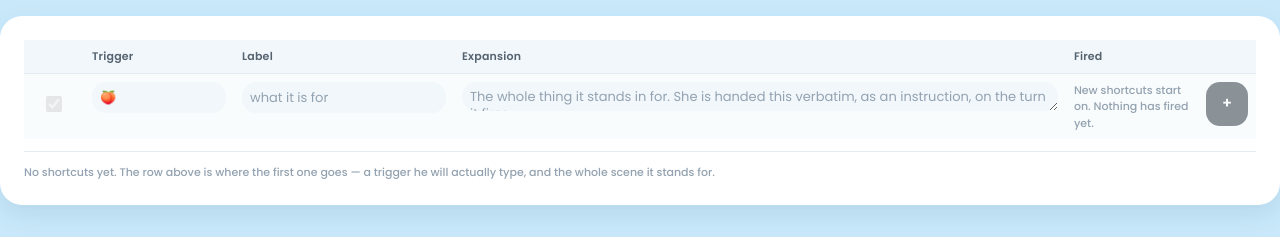
Test case: ShortcutTable — the add row › keeps the fields and shows the error when the add is refused
In the field named "The trigger to add": [159, 97] box [92,82,226,113], type "gym"
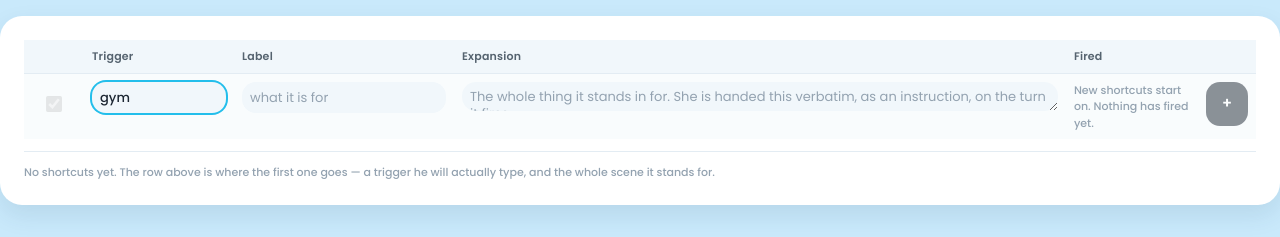
In the field named "What the new shortcut is for": [344, 97] box [242,82,446,113], type "Gym day"
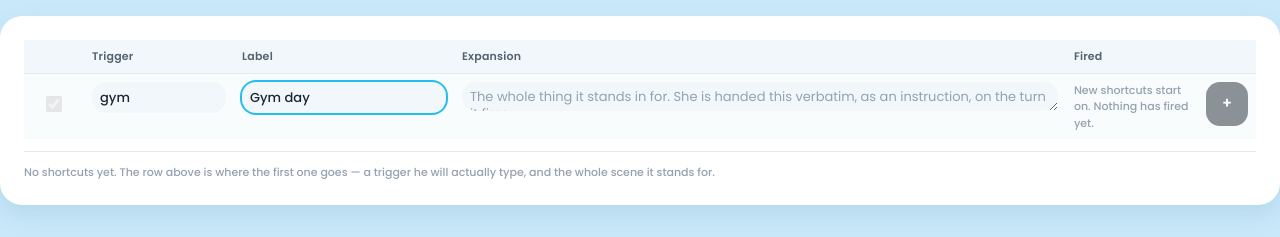
In the text box named "The context the new shortcut stands for": [760, 96] box [462,82,1058,111], type "He is at the gym."
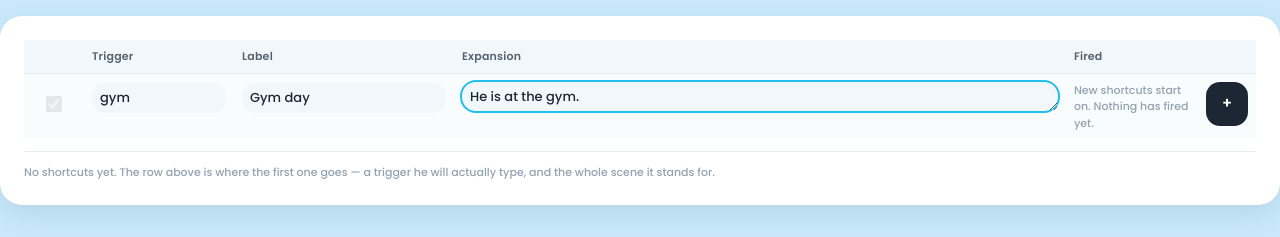
Click the button named "Add this shortcut": [1227, 104] box [1206,82,1248,126]
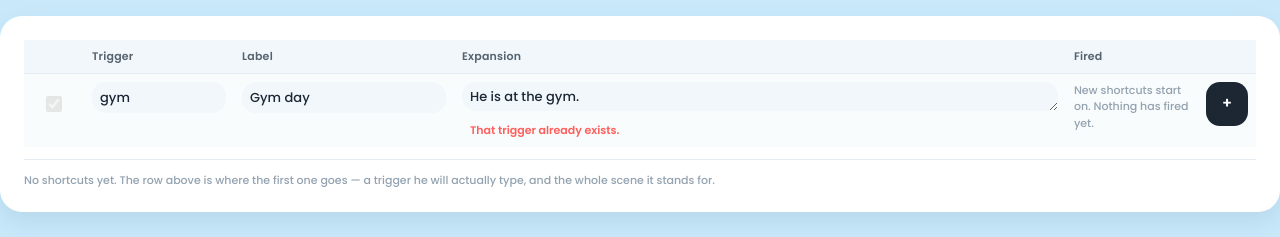
Expected: the text "That trigger already exists." is shown, [470,122,619,138]
